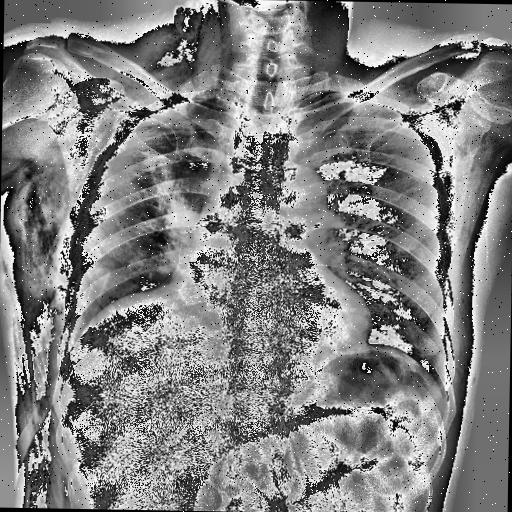0- Aortic enlargement: (256, 158, 326, 254), (260, 160, 328, 221)
11- Pleural thickening: (142, 91, 196, 125), (195, 88, 239, 104)
13- Pulmonary fibrosis: (146, 152, 200, 236)
3- Cardiomegaly: (171, 261, 372, 361), (166, 251, 372, 343)
7- Lung Opacity: (146, 152, 200, 236)
9- Other lesion: (8, 146, 228, 324), (0, 152, 68, 489), (6, 162, 66, 478), (12, 160, 66, 508), (130, 0, 224, 77), (138, 6, 230, 84), (146, 0, 230, 72), (402, 69, 424, 102)
